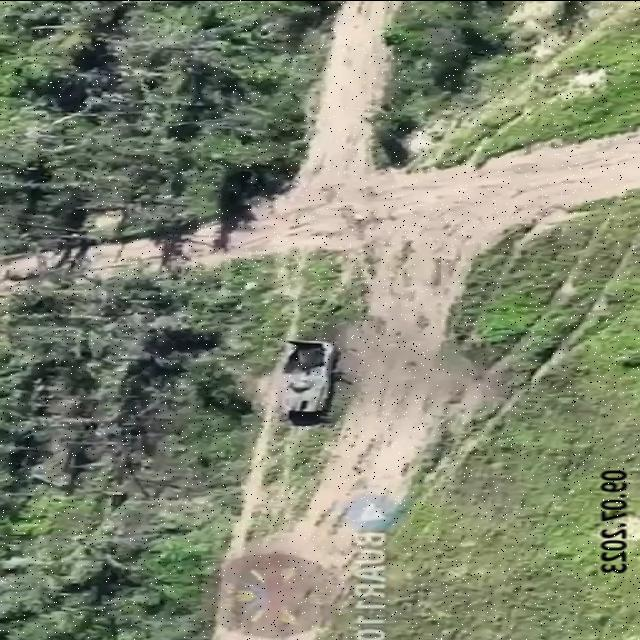APC-IFV: (264, 329, 344, 420)
